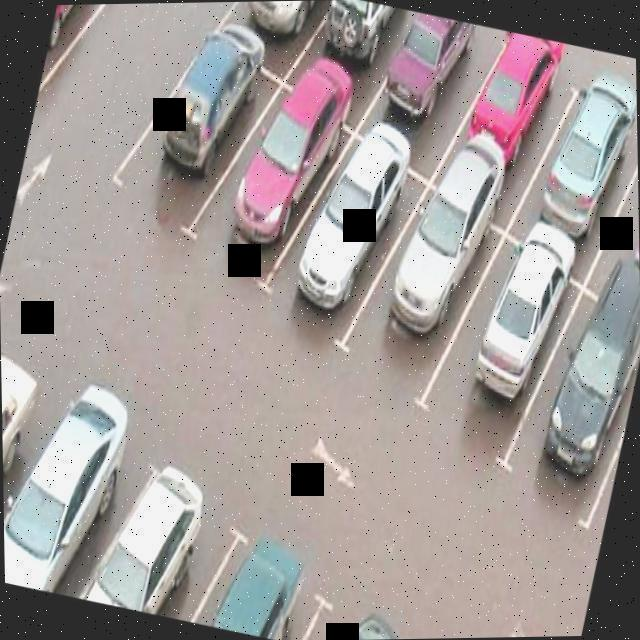car: (504, 268, 640, 565), (198, 61, 356, 316), (128, 1, 292, 240), (354, 158, 504, 416), (437, 240, 582, 482), (440, 24, 583, 227), (280, 133, 412, 349), (1, 399, 140, 602), (515, 64, 639, 280), (86, 454, 237, 625), (358, 5, 498, 185), (282, 0, 413, 143), (189, 506, 326, 640), (214, 0, 338, 96), (0, 338, 48, 578), (30, 4, 119, 130), (596, 121, 640, 333)
